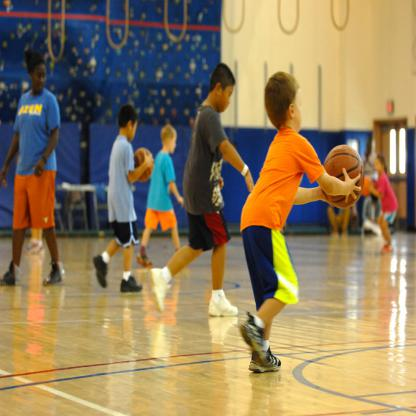Ball: (324, 143, 366, 208), (135, 146, 154, 181)
